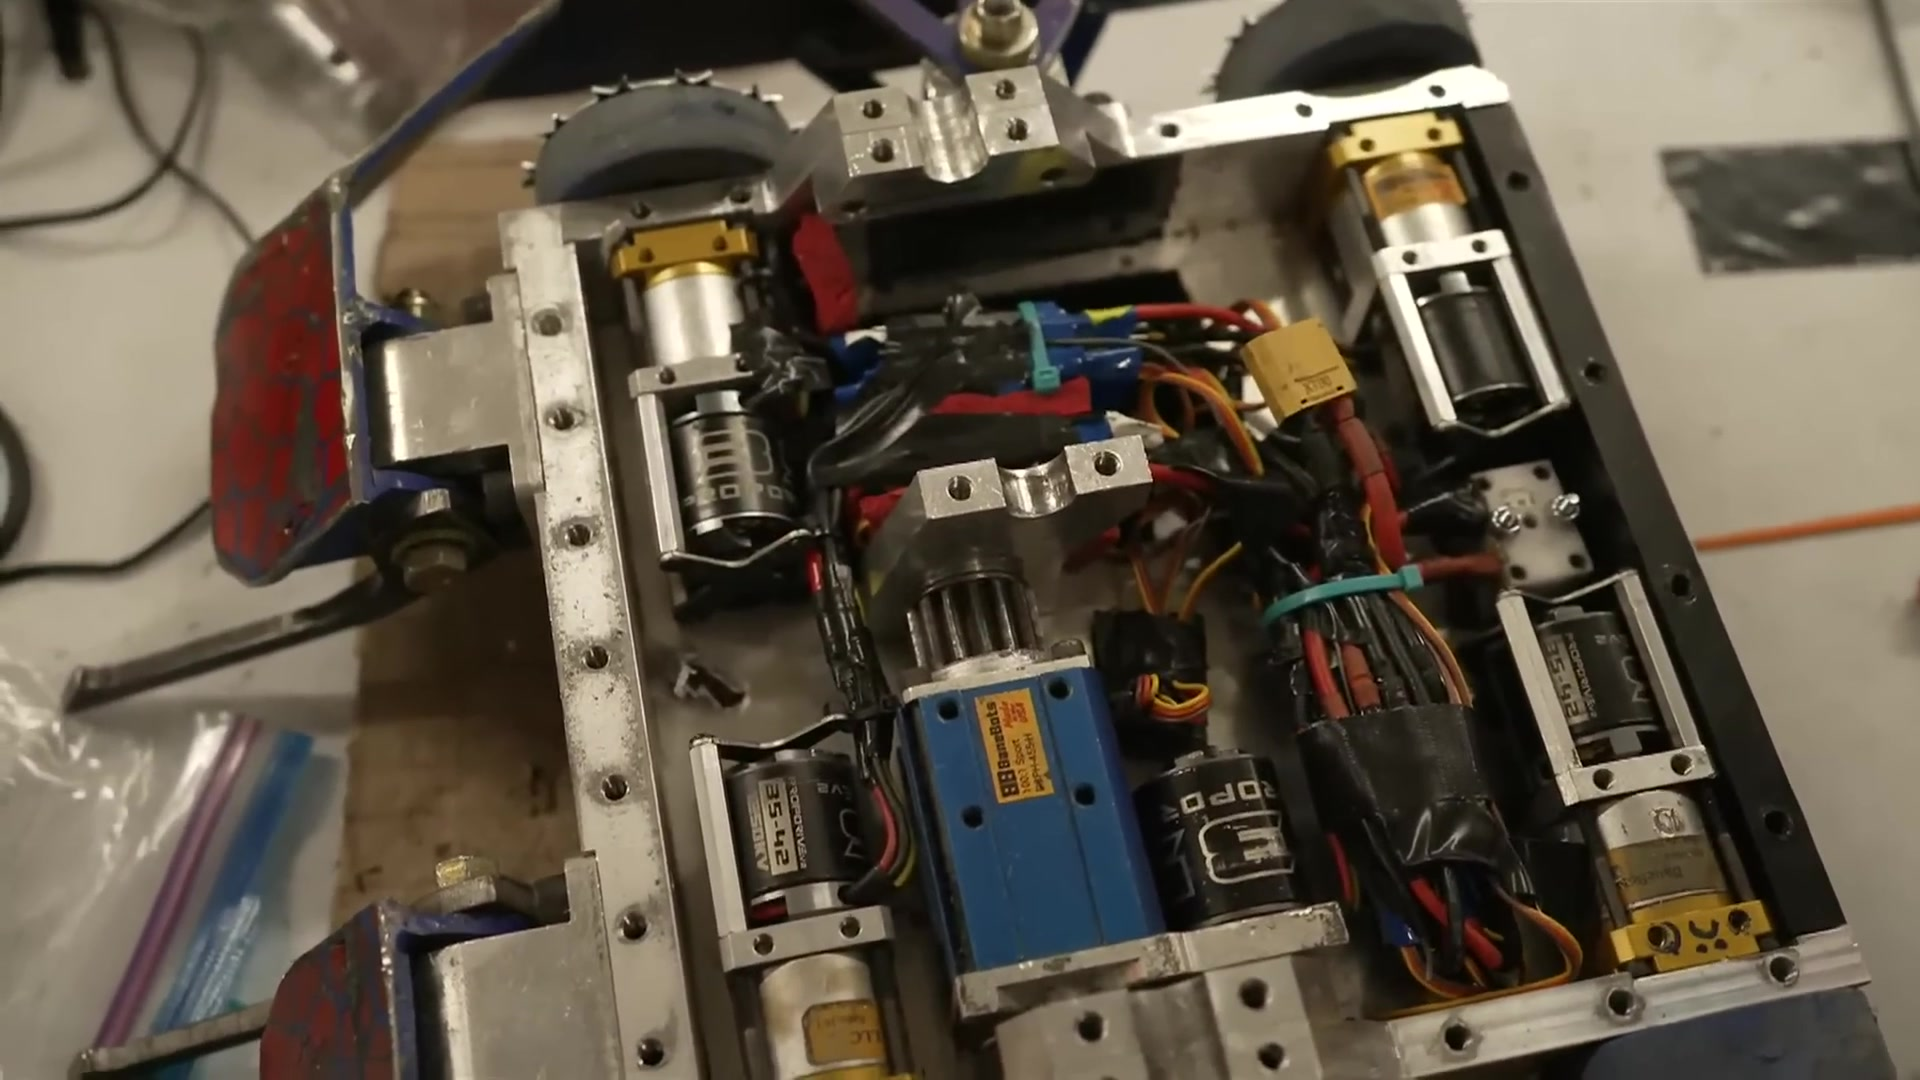combatbot: (211, 0, 1898, 1077)
